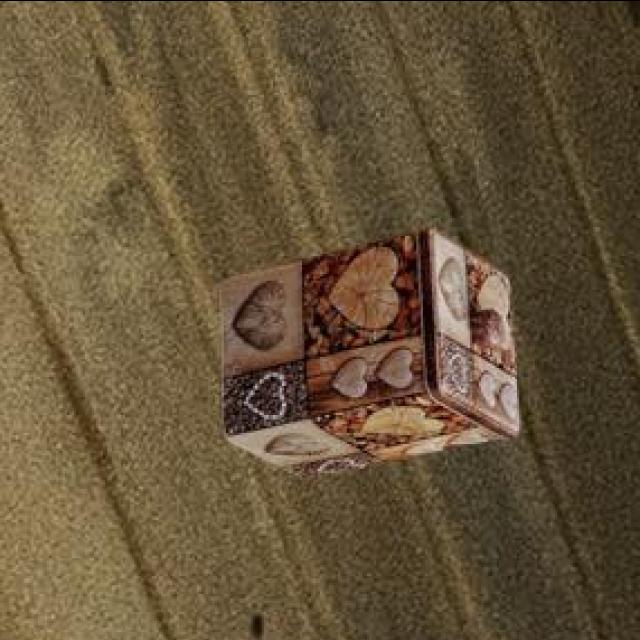logam: (216, 225, 516, 473)
